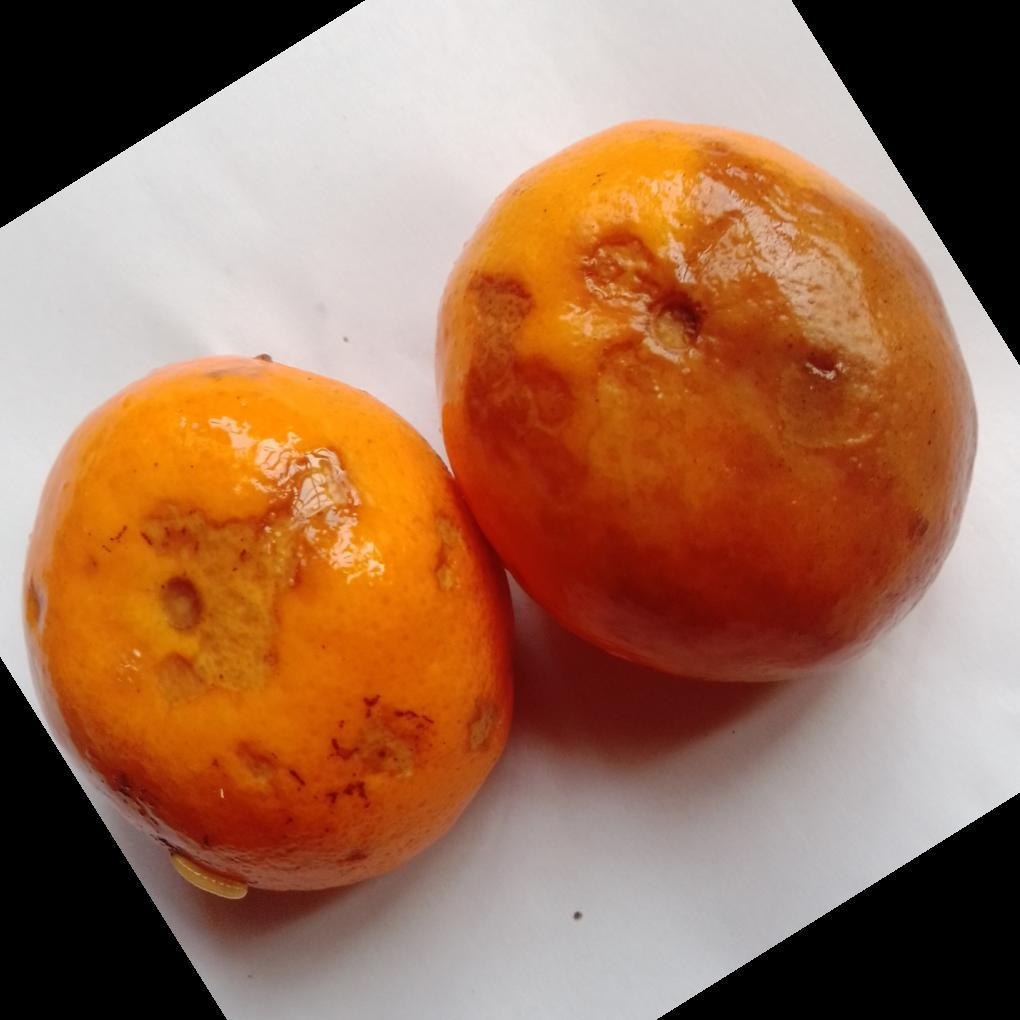FreshOrange: (19, 121, 980, 906)
